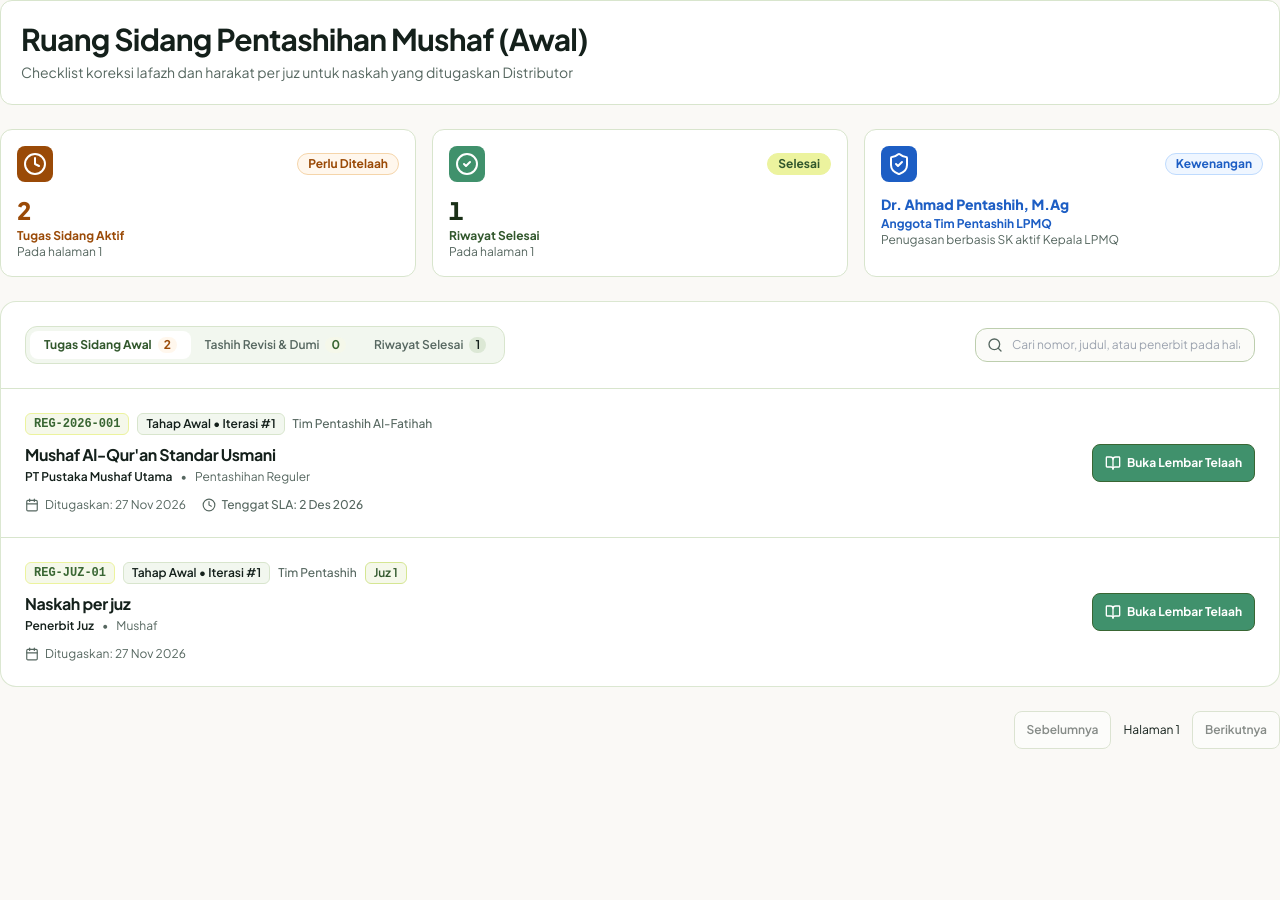
Test: PentashihWorkspacePage Component › menampilkan pesan error di modal saat simpan telaah gagal dan tidak memalsukan status berhasil
Click the button "Buka Lembar Telaah" in the row of "Pentashihan Reguler": (1173, 463) [1092,444,1255,482]
(page scrolled)
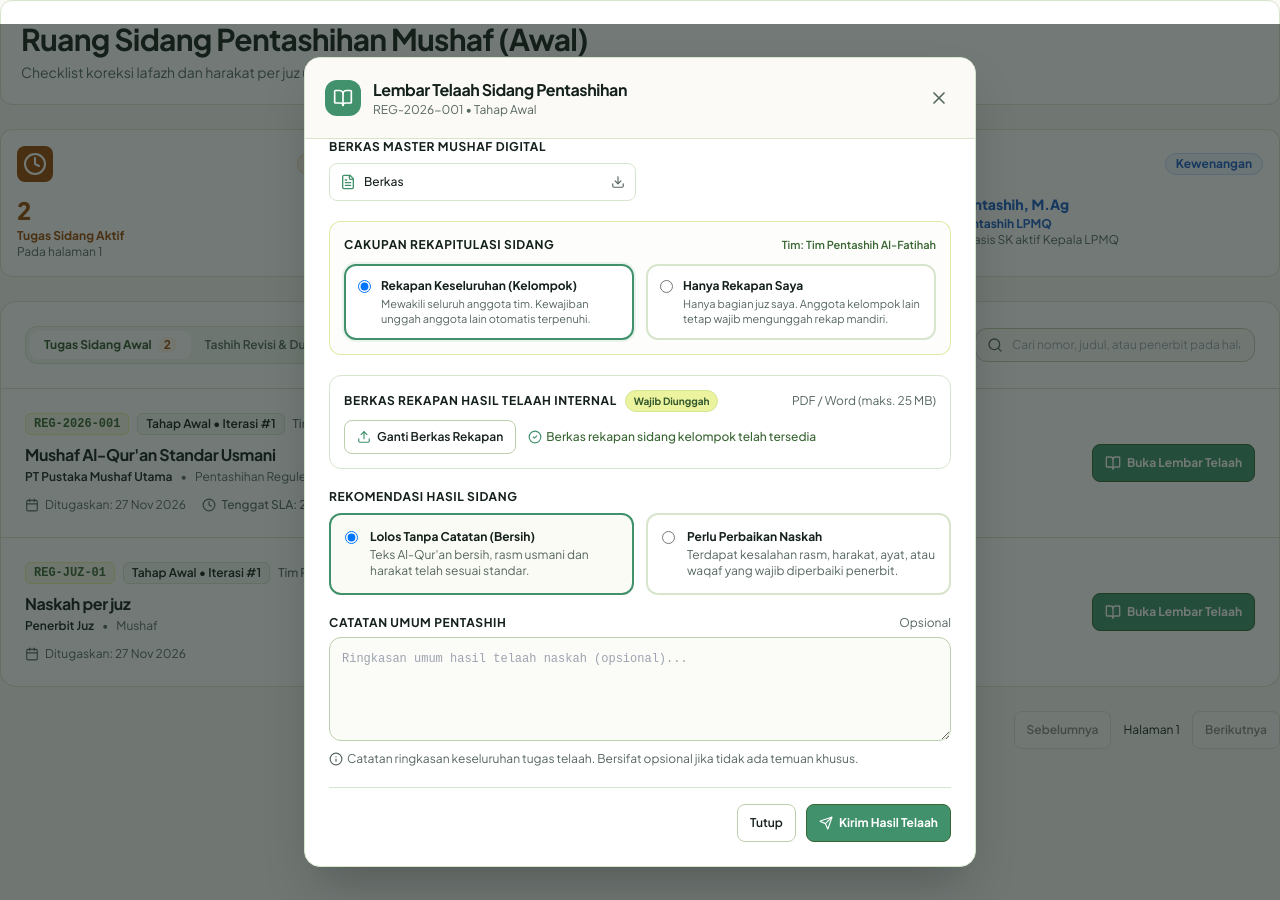
Now the heading "Lembar Telaah Sidang Pentashihan" is shown, box [373,78,627,102]
Click the button "Kirim Hasil Telaah": (878, 823) [806,804,951,842]
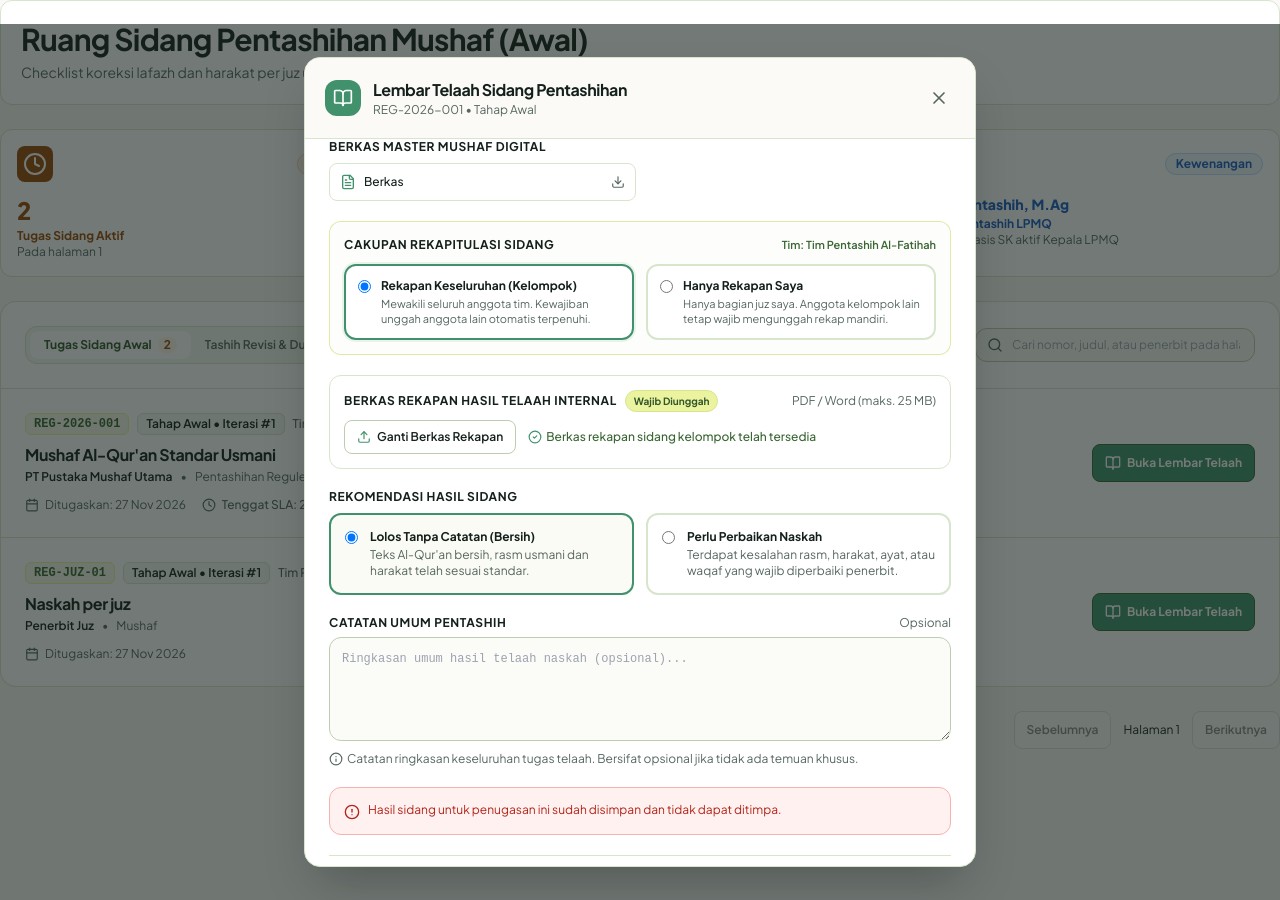
Now the text "Hasil sidang untuk penugasan ini sudah disimpan" is shown, box [368,802,782,817]
